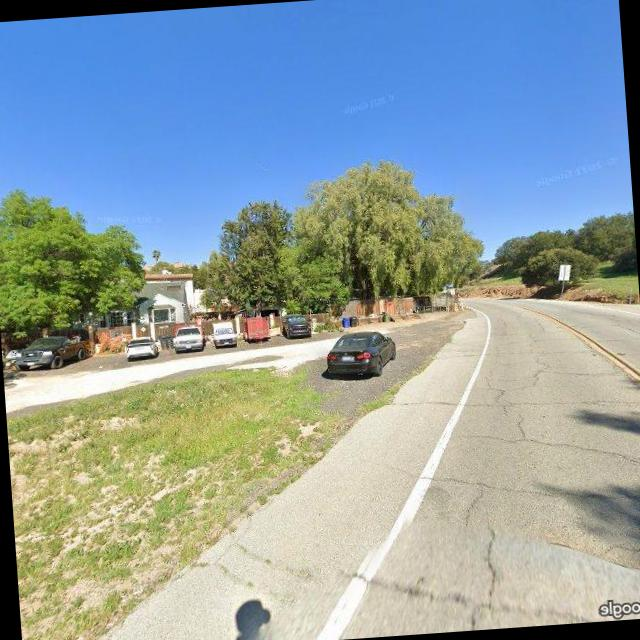crack: (401, 341, 640, 631)
